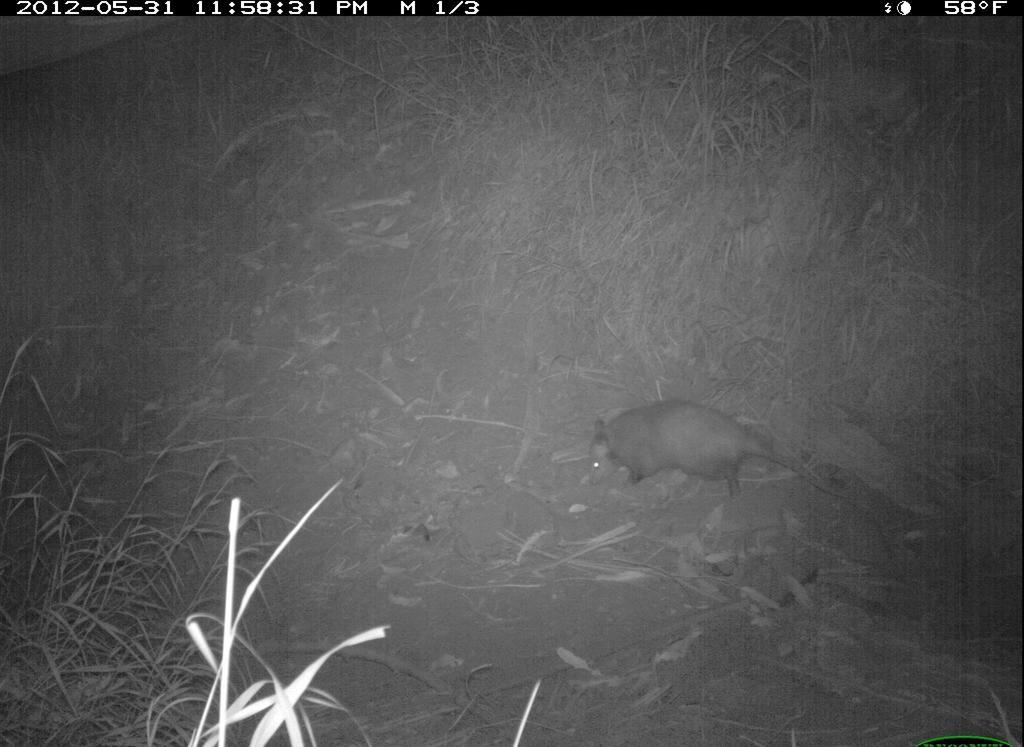opossum: (578, 402, 866, 513)
